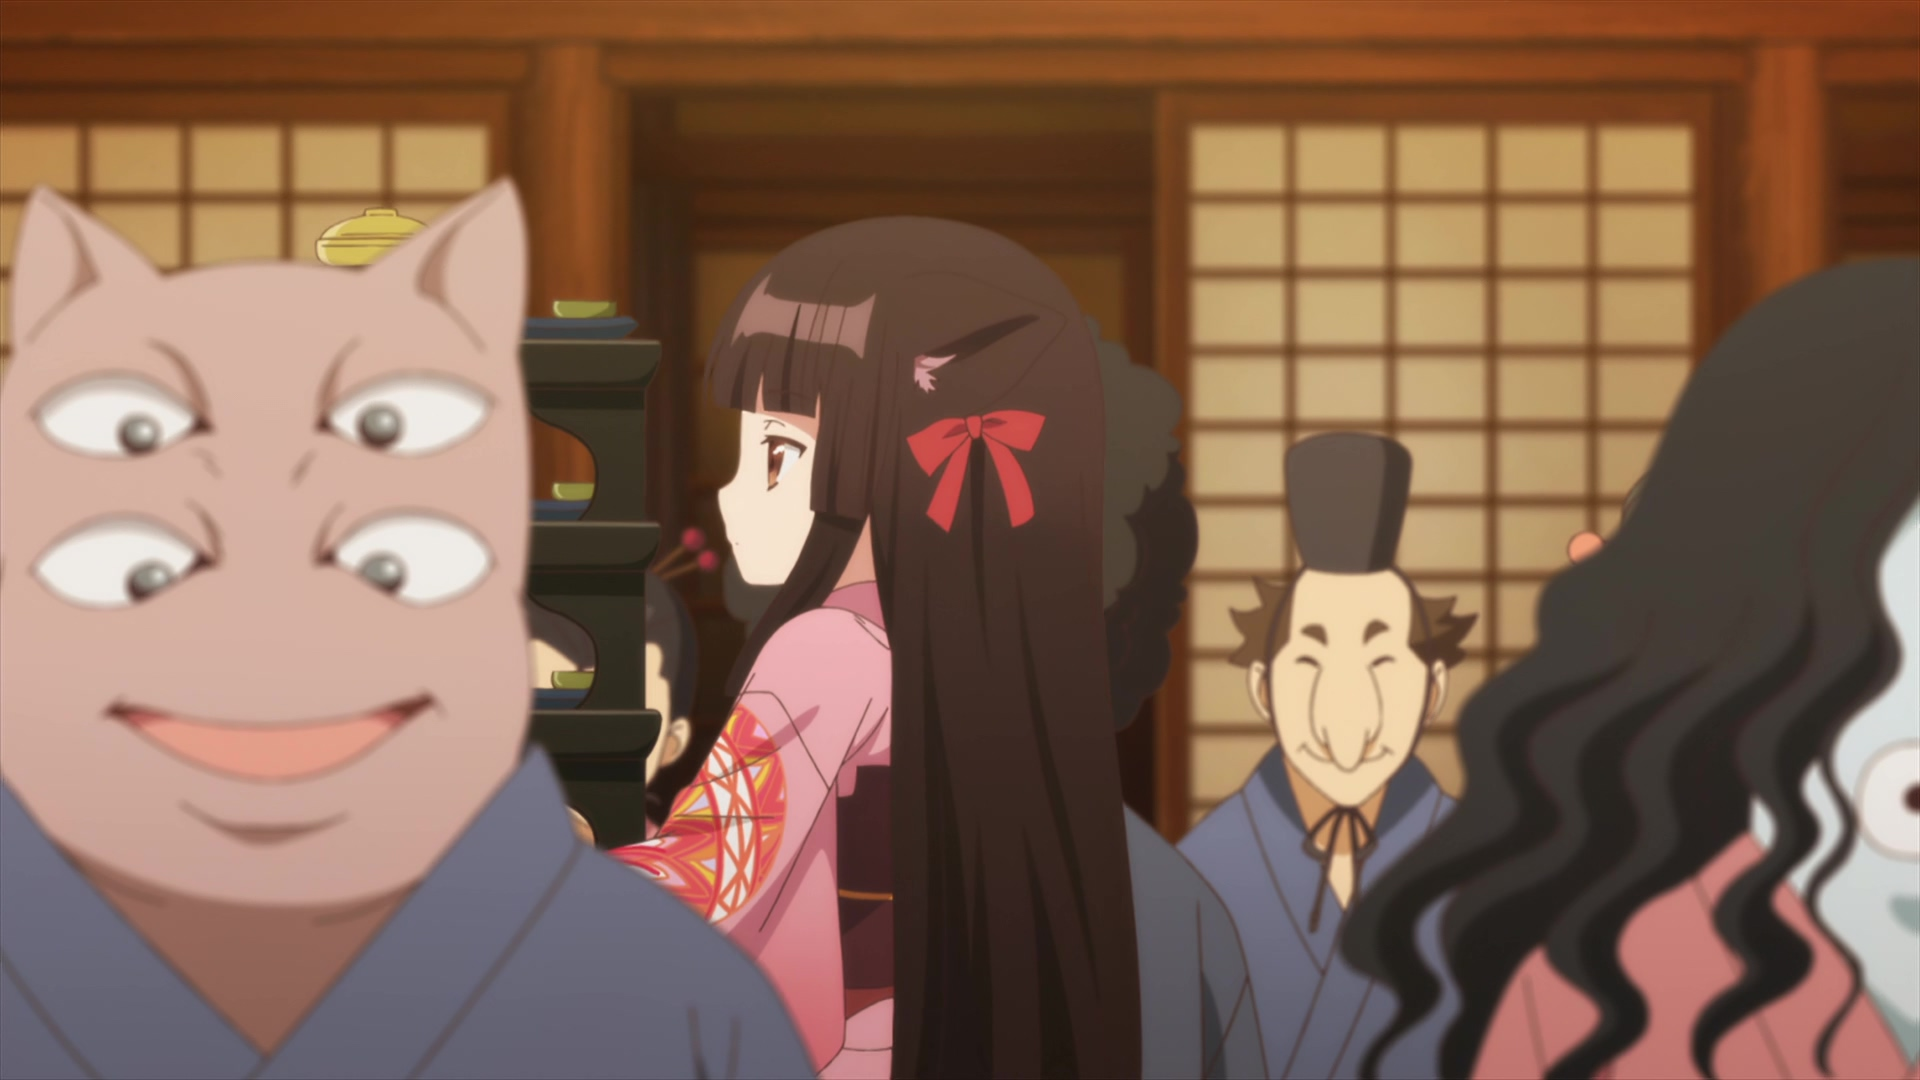其他: (1, 183, 812, 1080), (1341, 255, 1920, 1080), (1178, 434, 1476, 1080)
樱: (599, 219, 1139, 1080)
